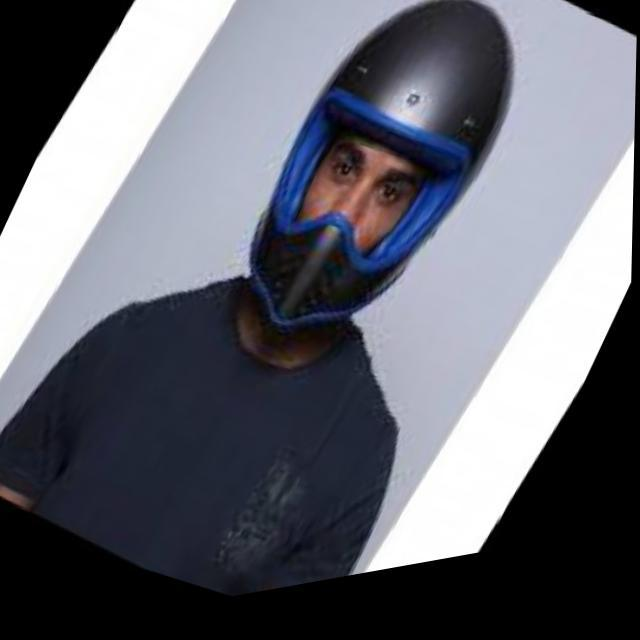Helmet: (220, 0, 524, 346)
